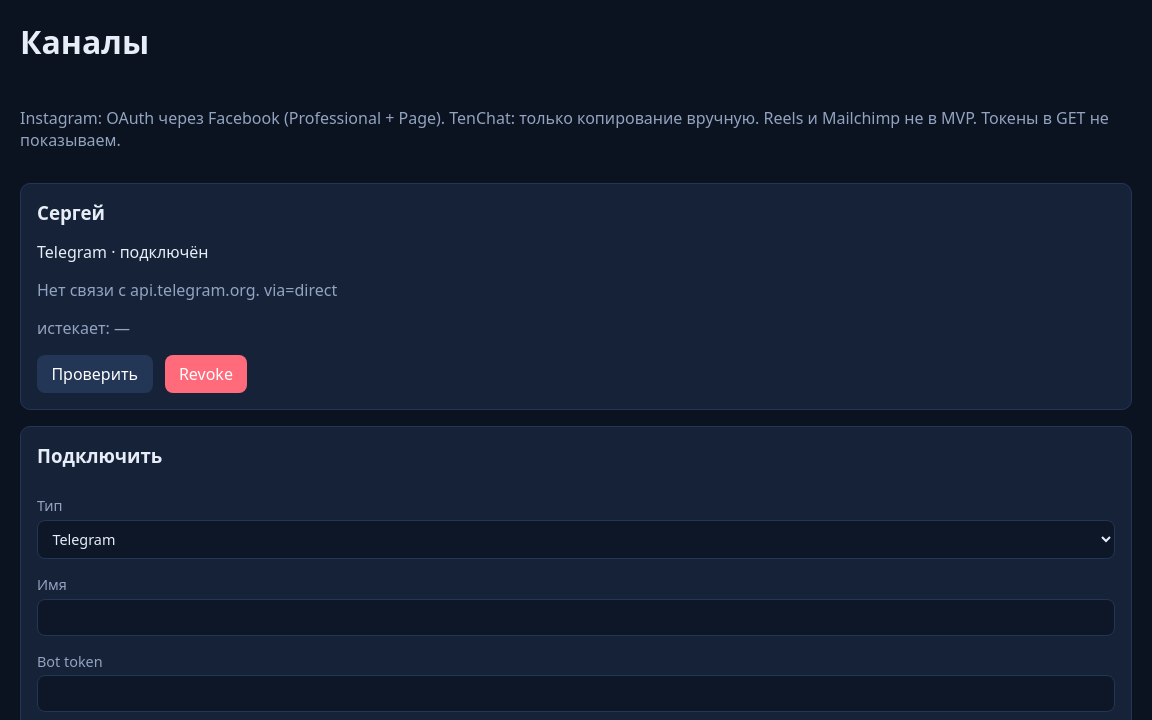
SCR-CHN secrets › shows banner and card error when adapter health returns ok=false
The width and height of the screenshot is (1152, 720).
Expected: the heading "Сергей" is shown, [37,200,105,225]
Expected: the text "Нет связи с api.telegram.org. via=direct" is shown, [37,279,337,301]
Click the button "Проверить" at (95, 374), box [37,355,152,393]
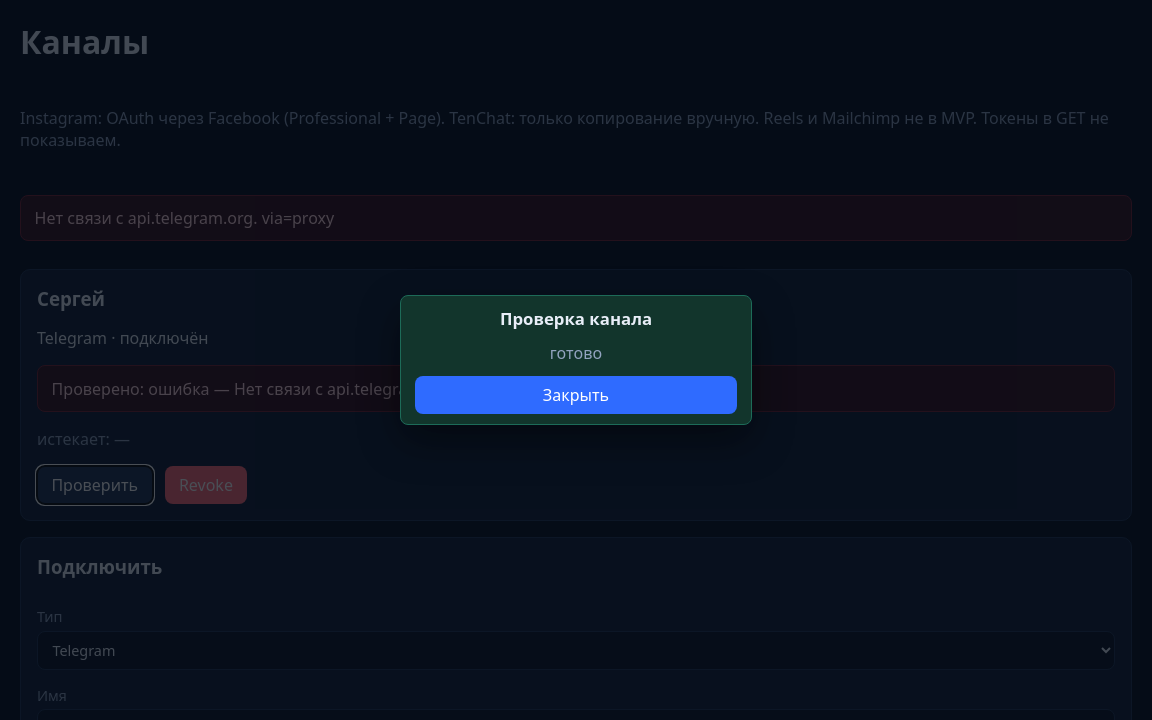
Expected: the text "Проверено: ошибка" is shown, [52,378,210,400]
Expected: the text "via=direct" is gone
